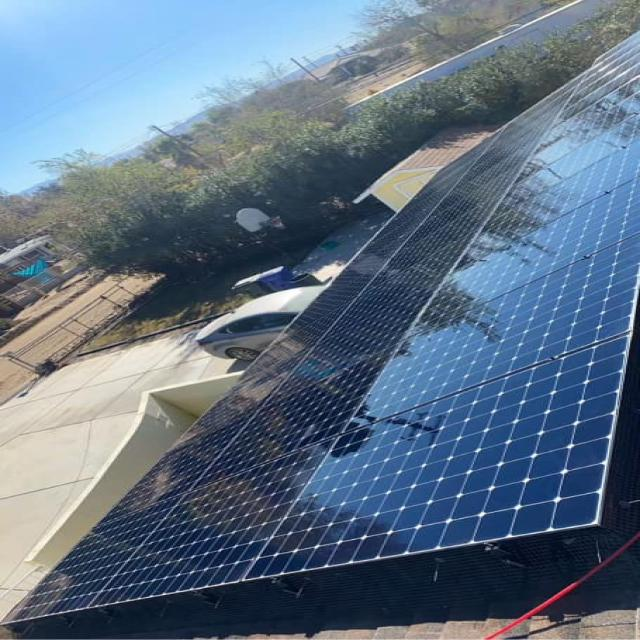clean-solar-panel: (13, 38, 638, 621)
